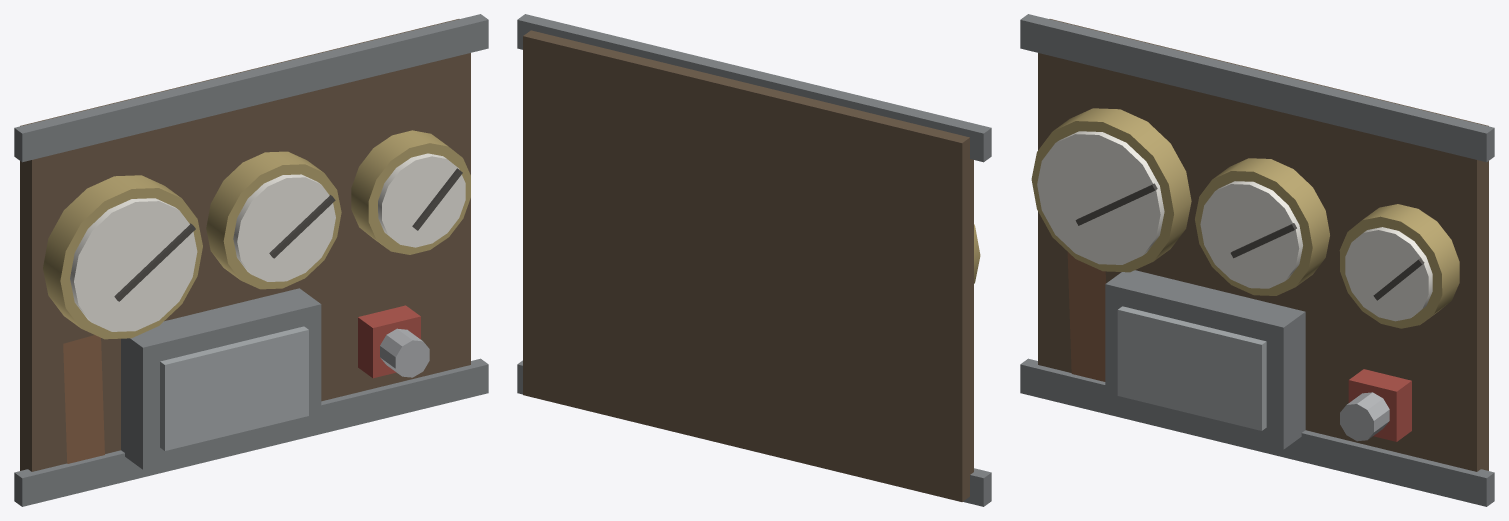
File: Dress_GaugeBoard.fbx
3 renders of one model, left to right at view 1: azimuth 30°, elevation 25°; view 2: azimuth 150°, elevation 25°; view 3: azimuth 330°, elevation 25°, orthographic.
Visible parts, largest first — view 1: Dress_GaugeBoard; view 2: Dress_GaugeBoard; view 3: Dress_GaugeBoard.
Boxes of the visible parts, x1,y1,x2,y2 form: Dress_GaugeBoard: (14, 14, 488, 506); Dress_GaugeBoard: (517, 14, 991, 506); Dress_GaugeBoard: (1020, 14, 1494, 506).
Bounding box in the file's own units: 68 × 52 × 10.8.
